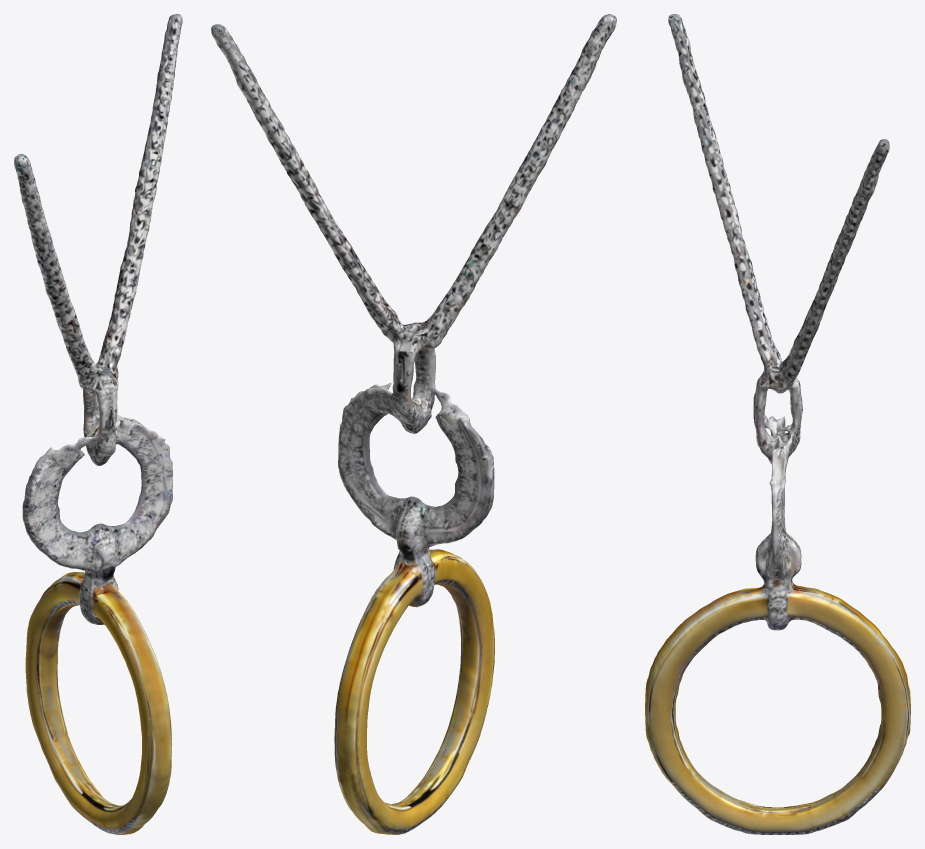
File: JET003.glb
The picture shows the model from 3 angles, left to right: view 1: azimuth 30°, elevation 25°; view 2: azimuth 150°, elevation 25°; view 3: azimuth 270°, elevation 25°; orthographic projection. The views are drawn at different scales.
Visible parts, largest first — view 1: tripo_node_a9440901-81ef-4a3a-9665-772354beca47; view 2: tripo_node_a9440901-81ef-4a3a-9665-772354beca47; view 3: tripo_node_a9440901-81ef-4a3a-9665-772354beca47.
Boxes of the visible parts, x1=… form: tripo_node_a9440901-81ef-4a3a-9665-772354beca47: x1=14, y1=14, x2=182, y2=834; tripo_node_a9440901-81ef-4a3a-9665-772354beca47: x1=211, y1=14, x2=616, y2=834; tripo_node_a9440901-81ef-4a3a-9665-772354beca47: x1=645, y1=14, x2=910, y2=834.
Bounding box in the file's own units: 0.3721 × 0.976 × 0.3108.
Materials: 1 (1 with a texture image).
